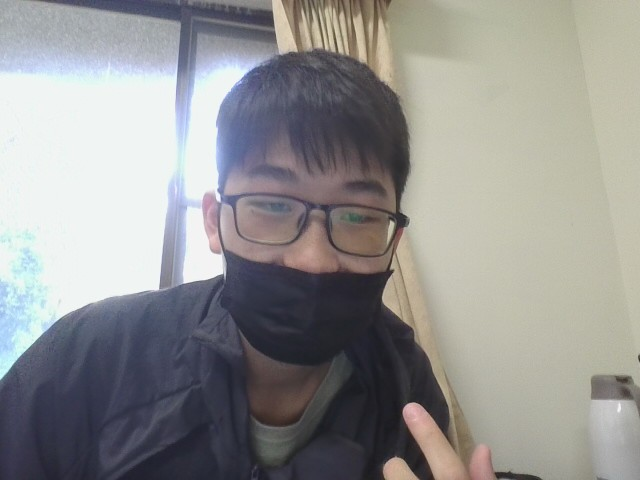No_Gloves: (357, 398, 570, 480)
No_Helmet: (203, 42, 414, 283)
person: (4, 29, 581, 480)
